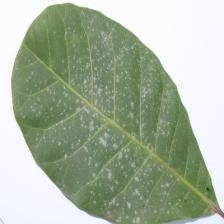red rust: (10, 2, 224, 224)
